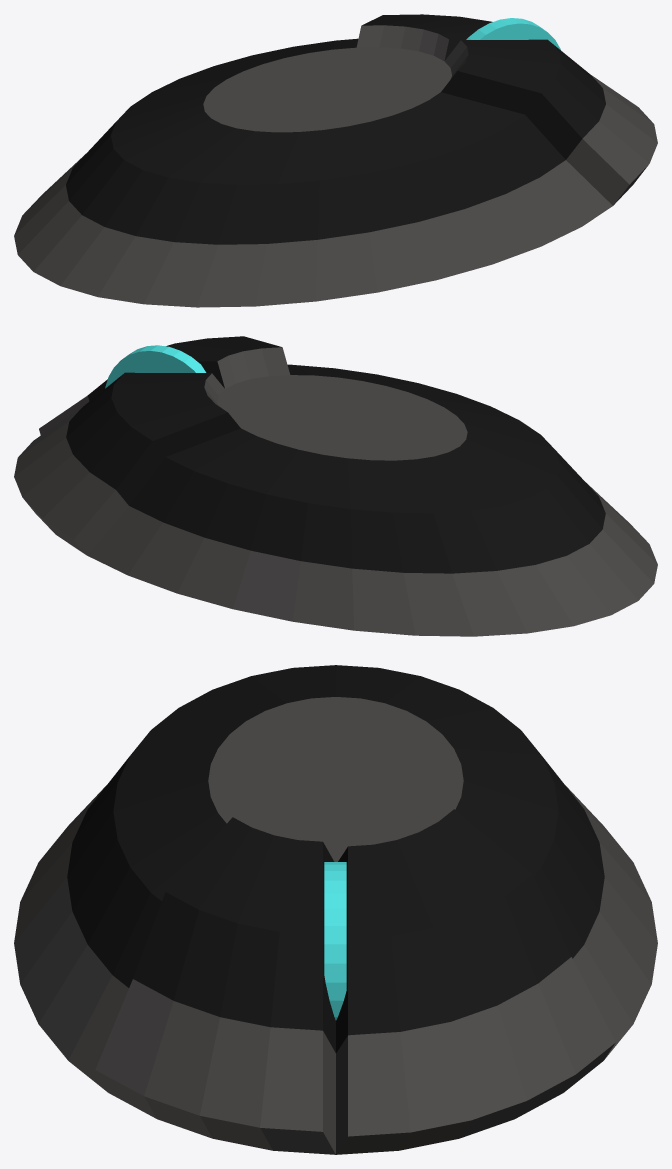
Rendered from Mouse.fbx.
3 views of the same model, one above another, from view 1: azimuth 30°, elevation 25°; view 2: azimuth 150°, elevation 25°; view 3: azimuth 270°, elevation 25° (orthographic). The views are drawn at different scales.
Parts seen in each view (by area): view 1: Mouse; view 2: Mouse; view 3: Mouse.
Part boxes in pixels (left/top/right/bottom): Mouse: left=14, top=14, right=657, bottom=307; Mouse: left=14, top=336, right=657, bottom=636; Mouse: left=14, top=665, right=657, bottom=1154.
Bounding box in the file's own units: 336 × 72.11 × 212.
